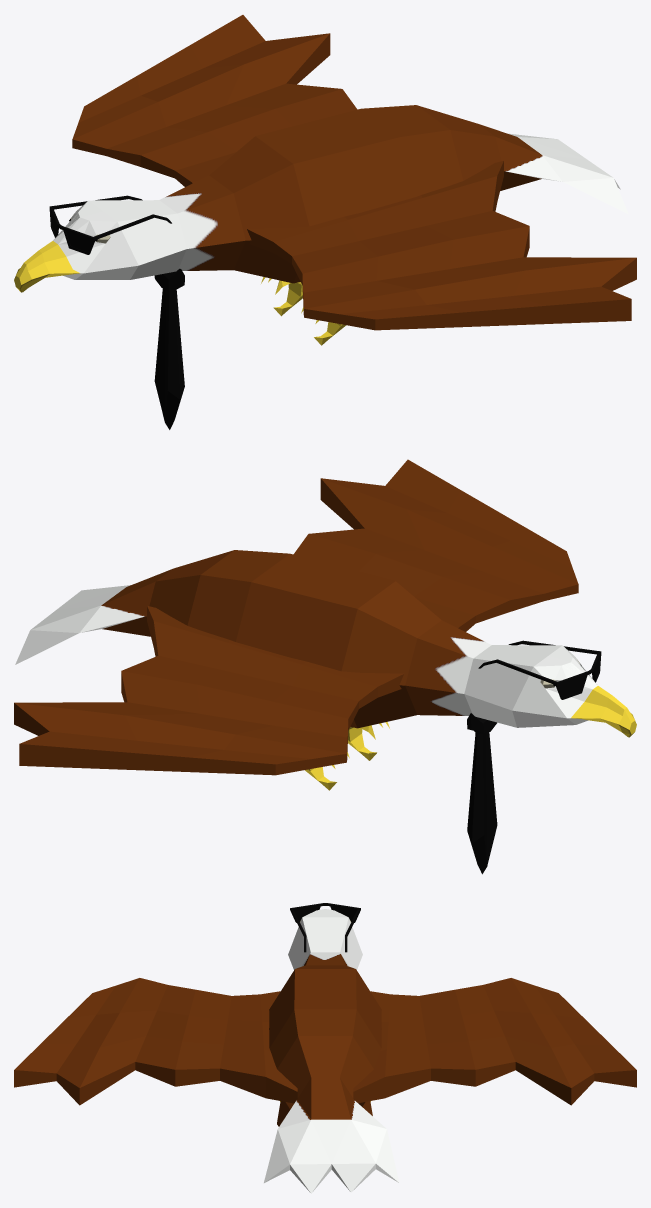
Rendered from Enemy_Eagle.fbx.
3 views of the same model, one above another, from view 1: azimuth 30°, elevation 25°; view 2: azimuth 150°, elevation 25°; view 3: azimuth 270°, elevation 25° (orthographic). The views are drawn at different scales.
Visible parts, largest first — view 1: Body, Wing.001, Wing, Tie, Beak, Sunglass.001; view 2: Body, Wing, Wing.001, Tie, Beak, Sunglass.001; view 3: Body, Wing.001, Wing, Sunglass.001.
Boxes of the visible parts, x1,y1,x2,y2 form: Body: (53, 105, 628, 283); Wing.001: (247, 161, 636, 330); Wing: (72, 15, 357, 186); Tie: (154, 268, 184, 429); Beak: (14, 241, 79, 292); Sunglass.001: (49, 195, 171, 254); Body: (15, 550, 597, 728); Wing: (14, 606, 403, 775); Wing.001: (293, 459, 578, 631); Tie: (467, 713, 497, 874); Beak: (571, 686, 636, 737); Sunglass.001: (478, 640, 601, 699); Body: (264, 909, 399, 1193); Wing.001: (14, 978, 297, 1105); Wing: (353, 978, 636, 1105); Sunglass.001: (290, 903, 360, 952).
Bounding box in the file's own units: 2.19 × 0.9009 × 2.48.
Materials: 7 (6 with a texture image).
